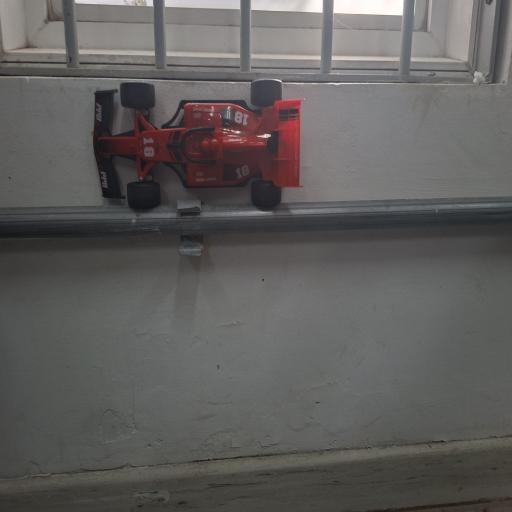carro: (94, 80, 301, 208)
